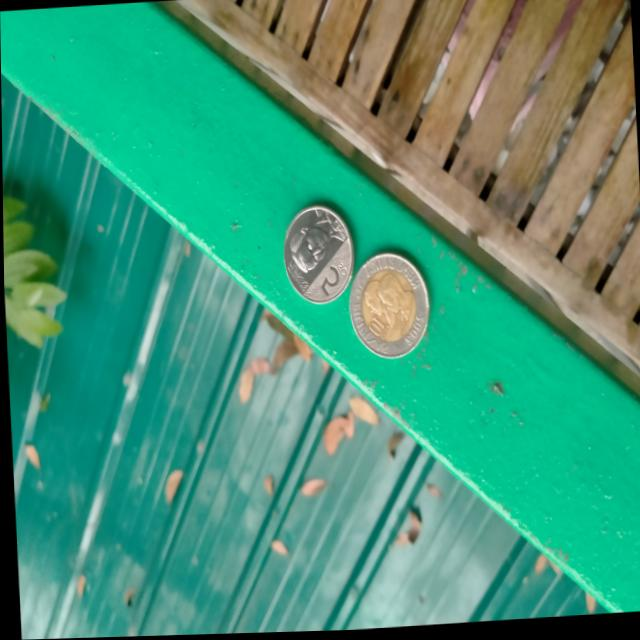10_Old_Front: (352, 258, 428, 359)
5_New_Front: (282, 209, 347, 302)
